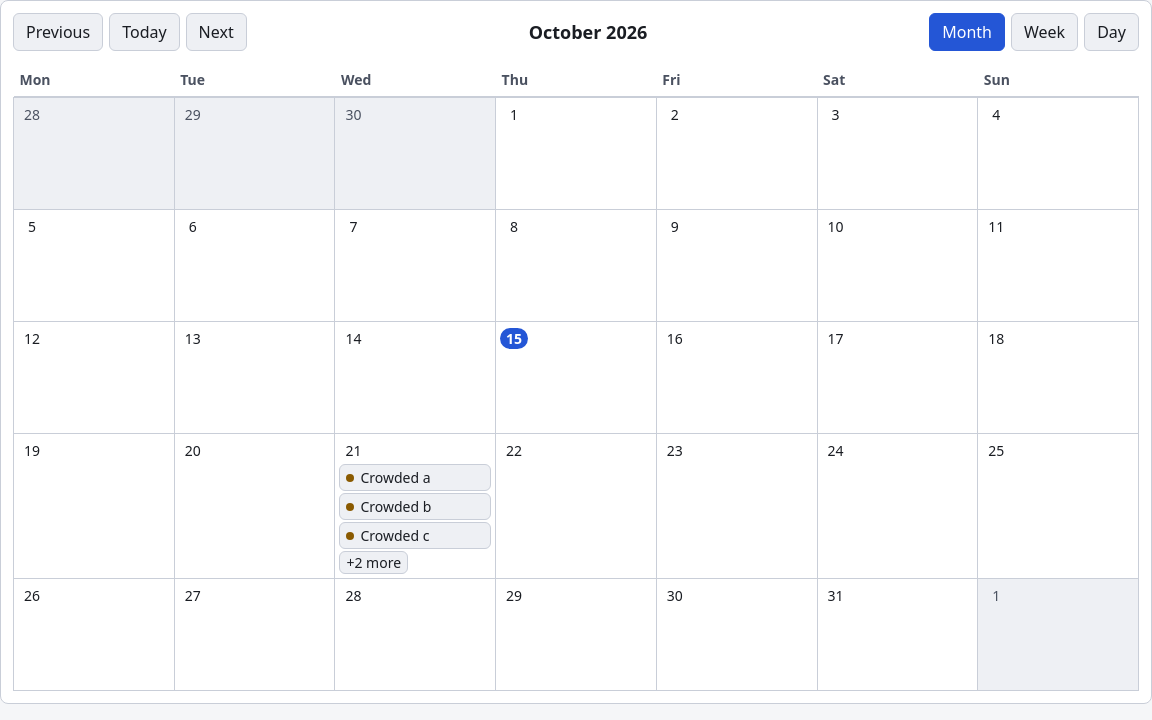
Test case: Calendar month view › shows at most 3 tasks per date, then a +N more button that names the date
The width and height of the screenshot is (1152, 720).
Expected: the number of buttons "Crowded a" is 3, [339,464,491,491]; [339,493,491,520]; [339,522,491,549]
Click the button with aria-label "2 more tasks on Wednesday, October 21, 2026": (374, 562) [339,551,408,574]
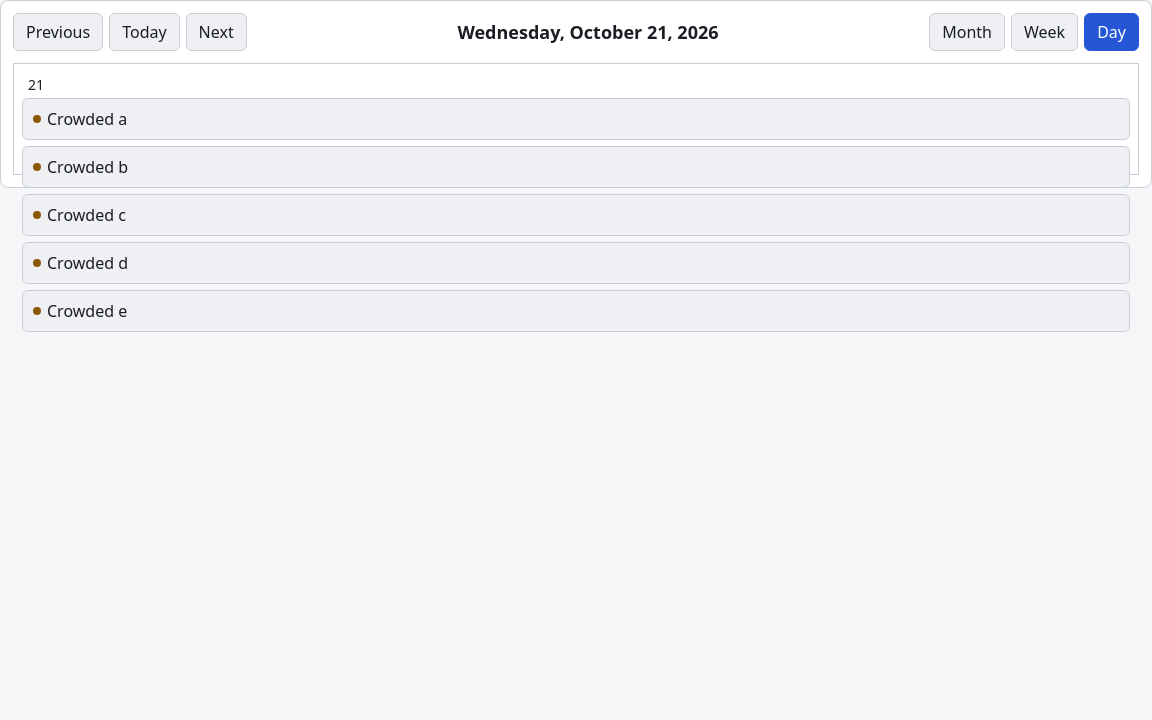
Expected: the table is gone
Expected: the heading "Wednesday, October 21, 2026" is shown, [457,20,718,44]
Expected: the number of buttons "Crowded a" is 5, [22,98,1130,140]; [22,146,1130,188]; [22,194,1130,236]; [22,242,1130,284]; [22,290,1130,332]
